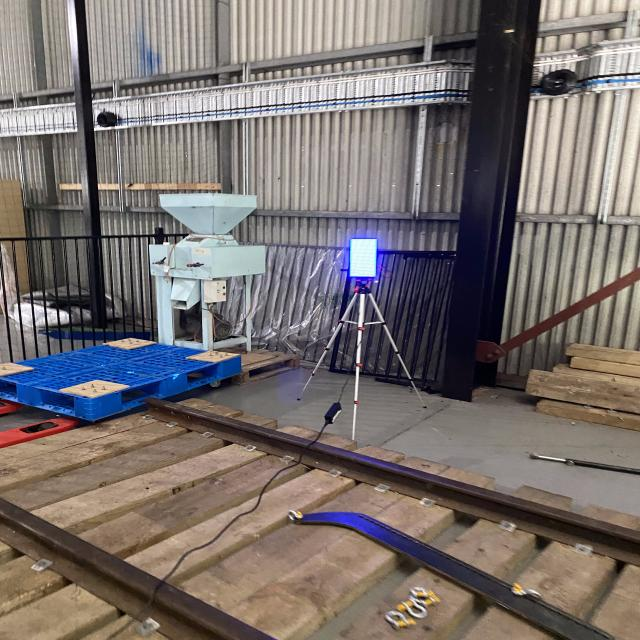matrix: (343, 230, 382, 280)
